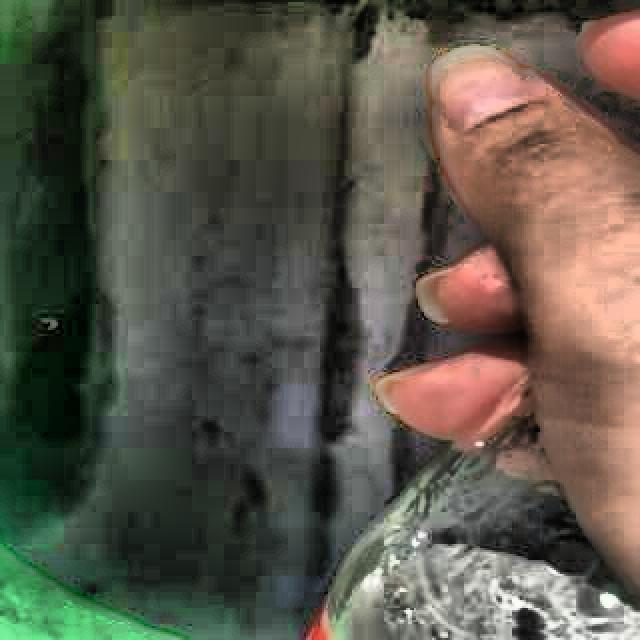glass: (323, 400, 640, 640)
